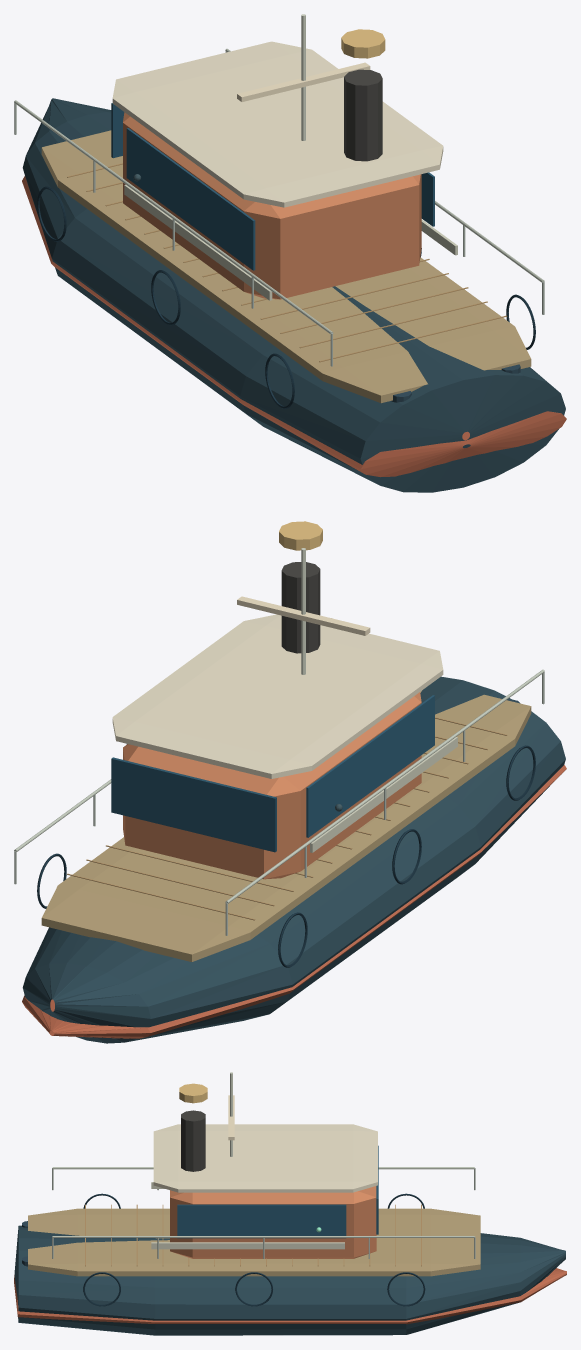
Rendered from tug.glb.
3 renders of one model, top to bottom at view 1: azimuth 30°, elevation 25°; view 2: azimuth 150°, elevation 25°; view 3: azimuth 270°, elevation 25°, orthographic. The views are drawn at different scales.
Parts seen in each view (by area): view 1: tug; view 2: tug; view 3: tug.
Boxes of the visible parts, x1=… form: tug: x1=14, y1=14, x2=566, y2=492; tug: x1=14, y1=521, x2=566, y2=1043; tug: x1=14, y1=1072, x2=566, y2=1335.
Size of the model in its own units: 4.68 by 6.82 by 13.82.
